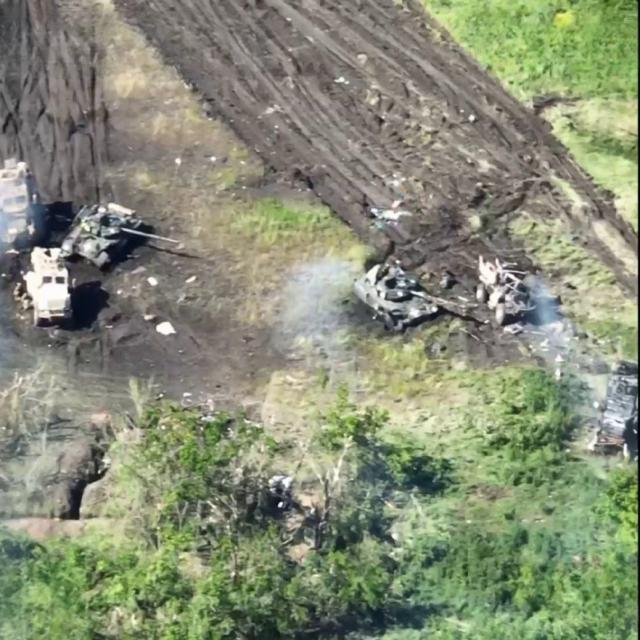Destroyed: (475, 252, 536, 334), (595, 362, 640, 456)
MBT: (60, 201, 182, 274), (353, 260, 444, 337)
Vehicle: (27, 248, 78, 329), (1, 158, 43, 249)
